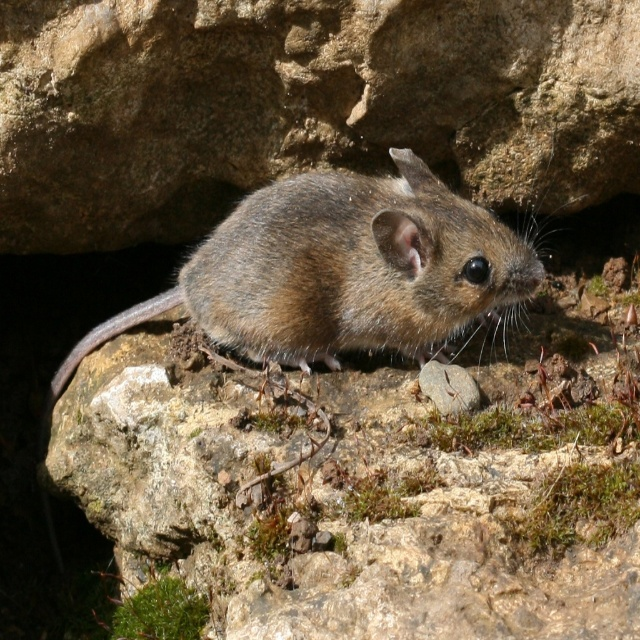Mouse: (36, 147, 592, 608)
